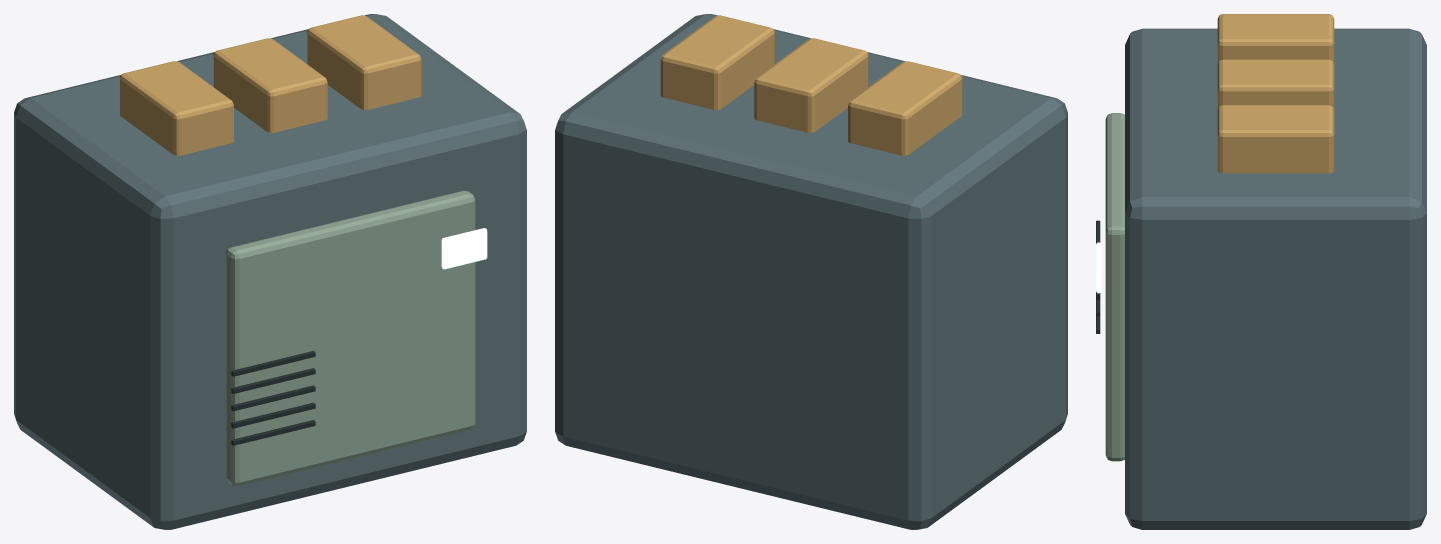
The model's file is generator.glb.
3 renders of one model, left to right at view 1: azimuth 30°, elevation 25°; view 2: azimuth 150°, elevation 25°; view 3: azimuth 270°, elevation 25°, orthographic.
Visible parts, largest first — view 1: Facility generator, Access door, Power cell, Power cell.001, Power cell.002, Recovery indicator, Cooling vent, Cooling vent.001, Cooling vent.002, Cooling vent.003, Cooling vent.004; view 2: Facility generator, Power cell, Power cell.001, Power cell.002; view 3: Facility generator, Power cell.002, Access door, Power cell.001, Power cell.
Part boxes in pixels (x1,y1,x2,y2): Facility generator: [14, 14, 526, 529]; Access door: [226, 190, 475, 485]; Power cell: [119, 61, 233, 155]; Power cell.001: [213, 38, 327, 132]; Power cell.002: [307, 15, 421, 109]; Recovery indicator: [441, 228, 487, 269]; Cooling vent: [231, 420, 315, 445]; Cooling vent.001: [231, 402, 315, 428]; Cooling vent.002: [231, 385, 315, 411]; Cooling vent.003: [231, 368, 315, 393]; Cooling vent.004: [231, 351, 315, 376]; Facility generator: [555, 14, 1067, 529]; Power cell: [848, 61, 962, 155]; Power cell.001: [754, 38, 868, 132]; Power cell.002: [660, 15, 774, 109]; Facility generator: [1125, 28, 1426, 529]; Power cell.002: [1217, 105, 1334, 173]; Access door: [1105, 113, 1124, 461]; Power cell.001: [1217, 59, 1334, 109]; Power cell: [1217, 14, 1334, 63].
Bounding box in the file's own units: 1 × 0.955 × 0.767.
